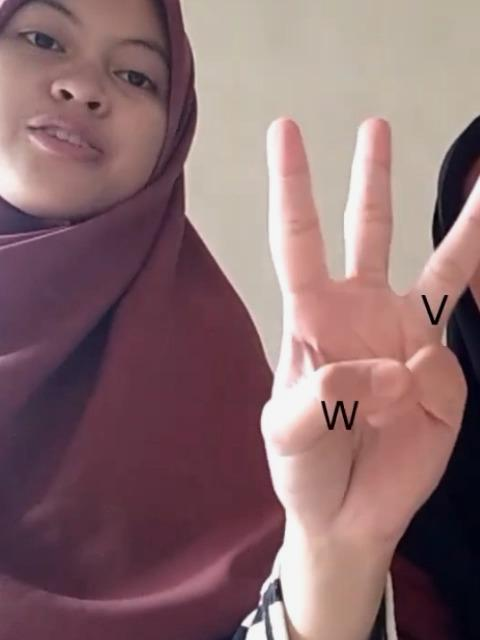W: (260, 112, 480, 552)
